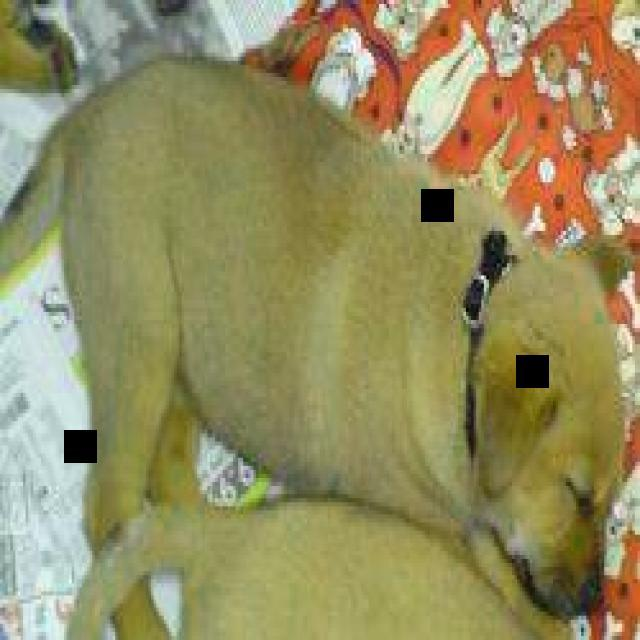puppy-dog: (2, 50, 635, 617), (66, 496, 551, 640)
